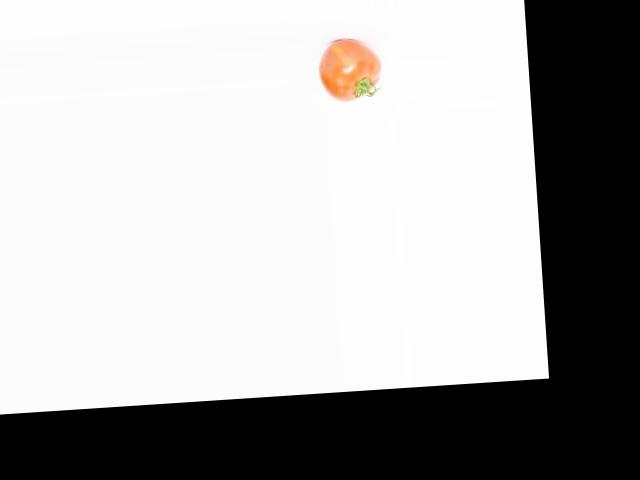tomato: (316, 36, 383, 104)
